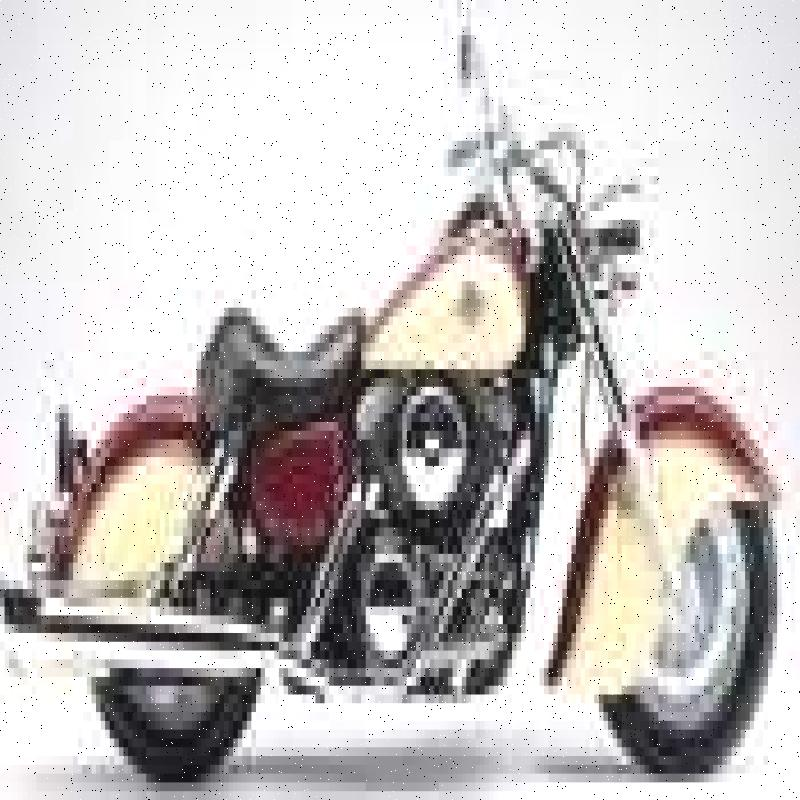bike: (13, 14, 784, 800)
